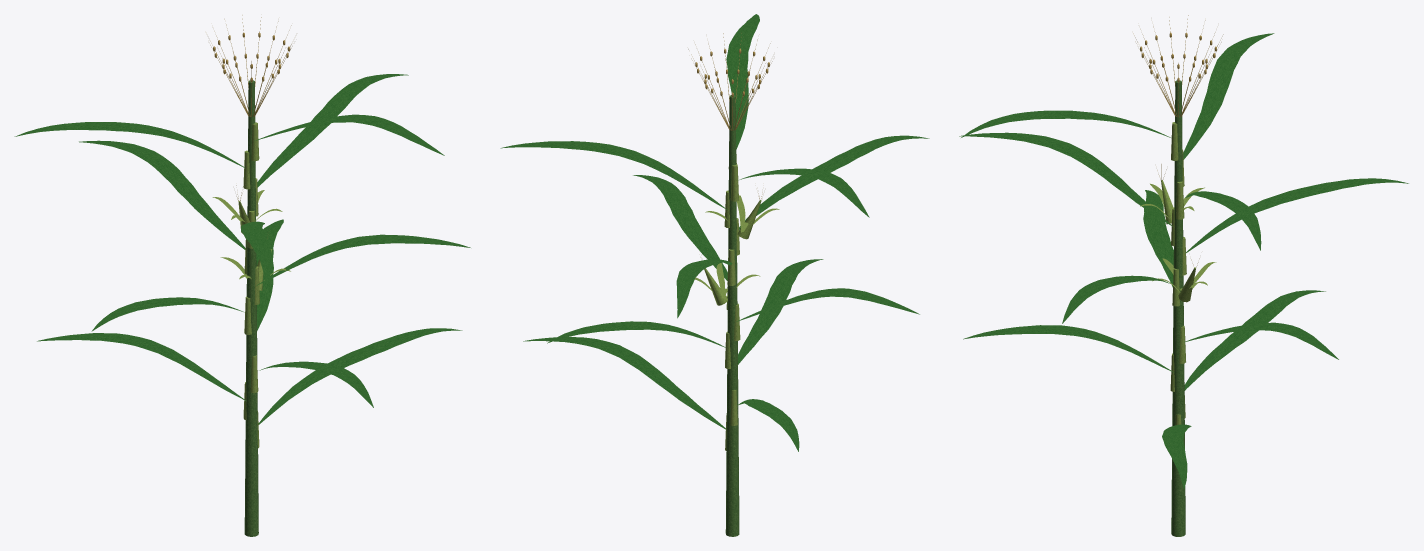
Rendered from PZ_Crop_Corn_Mature.glb.
3 views of the same model, side by side, from view 1: azimuth 30°, elevation 25°; view 2: azimuth 150°, elevation 25°; view 3: azimuth 270°, elevation 25° (orthographic). The views are drawn at different scales.
Parts seen in each view (by area): view 1: PZ_Crop_Corn_Mature_02_Curved_Broad_Blades, PZ_Crop_Corn_Mature_01_Culm, PZ_Crop_Corn_Mature_03_Leaf_Sheaths, PZ_Crop_Corn_Mature_04_Tassel_Branches, PZ_Crop_Corn_Mature_05_Ear_Husks; view 2: PZ_Crop_Corn_Mature_02_Curved_Broad_Blades, PZ_Crop_Corn_Mature_01_Culm, PZ_Crop_Corn_Mature_03_Leaf_Sheaths, PZ_Crop_Corn_Mature_05_Ear_Husks, PZ_Crop_Corn_Mature_04_Tassel_Branches; view 3: PZ_Crop_Corn_Mature_02_Curved_Broad_Blades, PZ_Crop_Corn_Mature_01_Culm, PZ_Crop_Corn_Mature_03_Leaf_Sheaths, PZ_Crop_Corn_Mature_04_Tassel_Branches, PZ_Crop_Corn_Mature_05_Ear_Husks.
Part boxes in pixels (left/top/right/bottom): PZ_Crop_Corn_Mature_02_Curved_Broad_Blades: left=14, top=74, right=470, bottom=424; PZ_Crop_Corn_Mature_01_Culm: left=244, top=80, right=258, bottom=536; PZ_Crop_Corn_Mature_03_Leaf_Sheaths: left=243, top=122, right=259, bottom=448; PZ_Crop_Corn_Mature_04_Tassel_Branches: left=210, top=15, right=292, bottom=116; PZ_Crop_Corn_Mature_05_Ear_Husks: left=212, top=190, right=290, bottom=290; PZ_Crop_Corn_Mature_02_Curved_Broad_Blades: left=500, top=14, right=929, bottom=451; PZ_Crop_Corn_Mature_01_Culm: left=725, top=95, right=739, bottom=536; PZ_Crop_Corn_Mature_03_Leaf_Sheaths: left=724, top=145, right=740, bottom=450; PZ_Crop_Corn_Mature_05_Ear_Husks: left=694, top=195, right=779, bottom=305; PZ_Crop_Corn_Mature_04_Tassel_Branches: left=688, top=33, right=772, bottom=130; PZ_Crop_Corn_Mature_02_Curved_Broad_Blades: left=959, top=33, right=1408, bottom=488; PZ_Crop_Corn_Mature_01_Culm: left=1171, top=80, right=1185, bottom=536; PZ_Crop_Corn_Mature_03_Leaf_Sheaths: left=1170, top=122, right=1186, bottom=425; PZ_Crop_Corn_Mature_04_Tassel_Branches: left=1133, top=15, right=1223, bottom=117; PZ_Crop_Corn_Mature_05_Ear_Husks: left=1140, top=180, right=1216, bottom=302.
Bounding box in the file's own units: 2 × 2.37 × 1.93.
4 materials, 4 textured.
